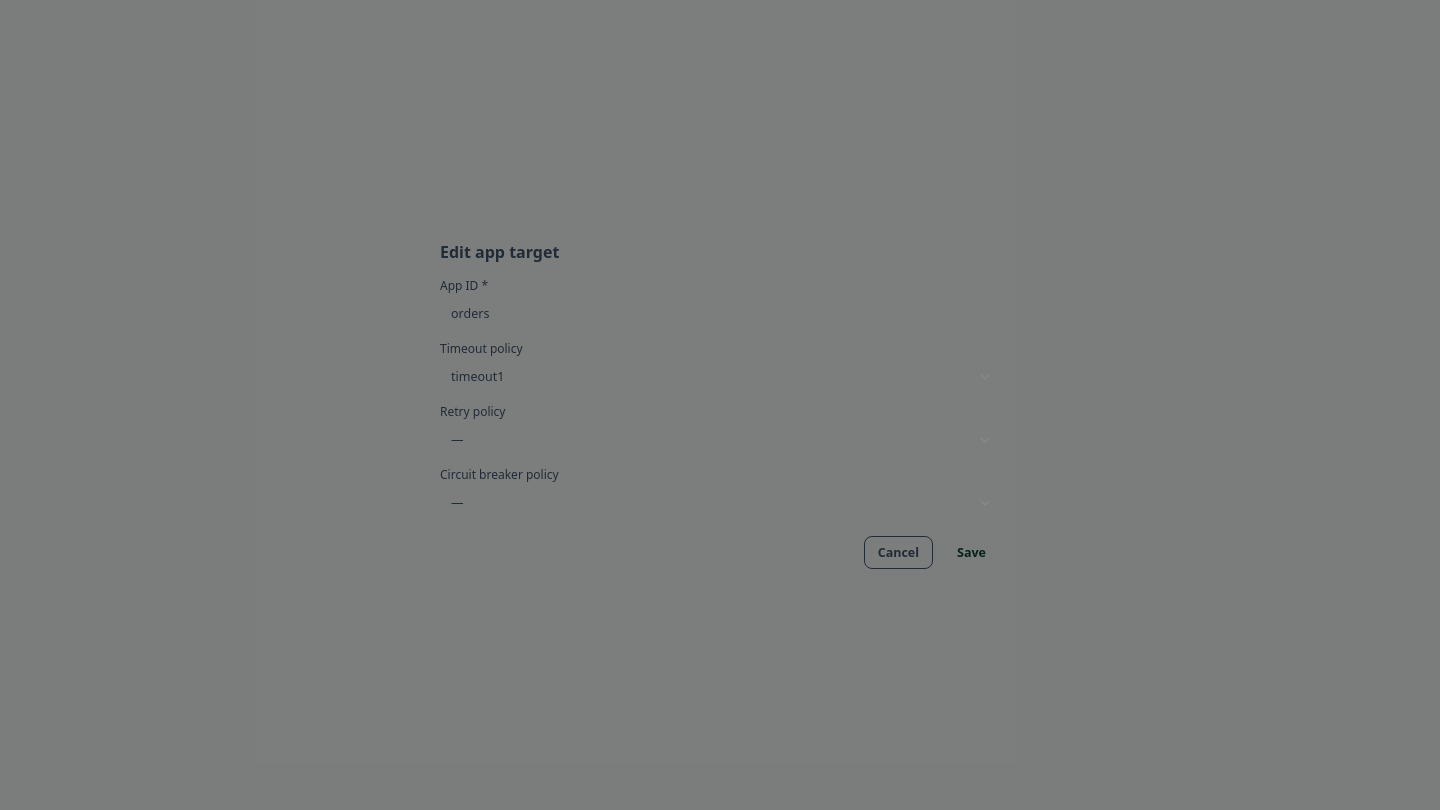
target dialogs duplicate name guard › AppTargetDialog allows keeping the same App ID while editing but blocks renaming onto another
The width and height of the screenshot is (1440, 810).
Expected: the button "Save" is enabled, [943, 536, 1000, 569]
Replace the text in the field named "app id" with "billing" at point(731, 314), box [440, 298, 1022, 329]
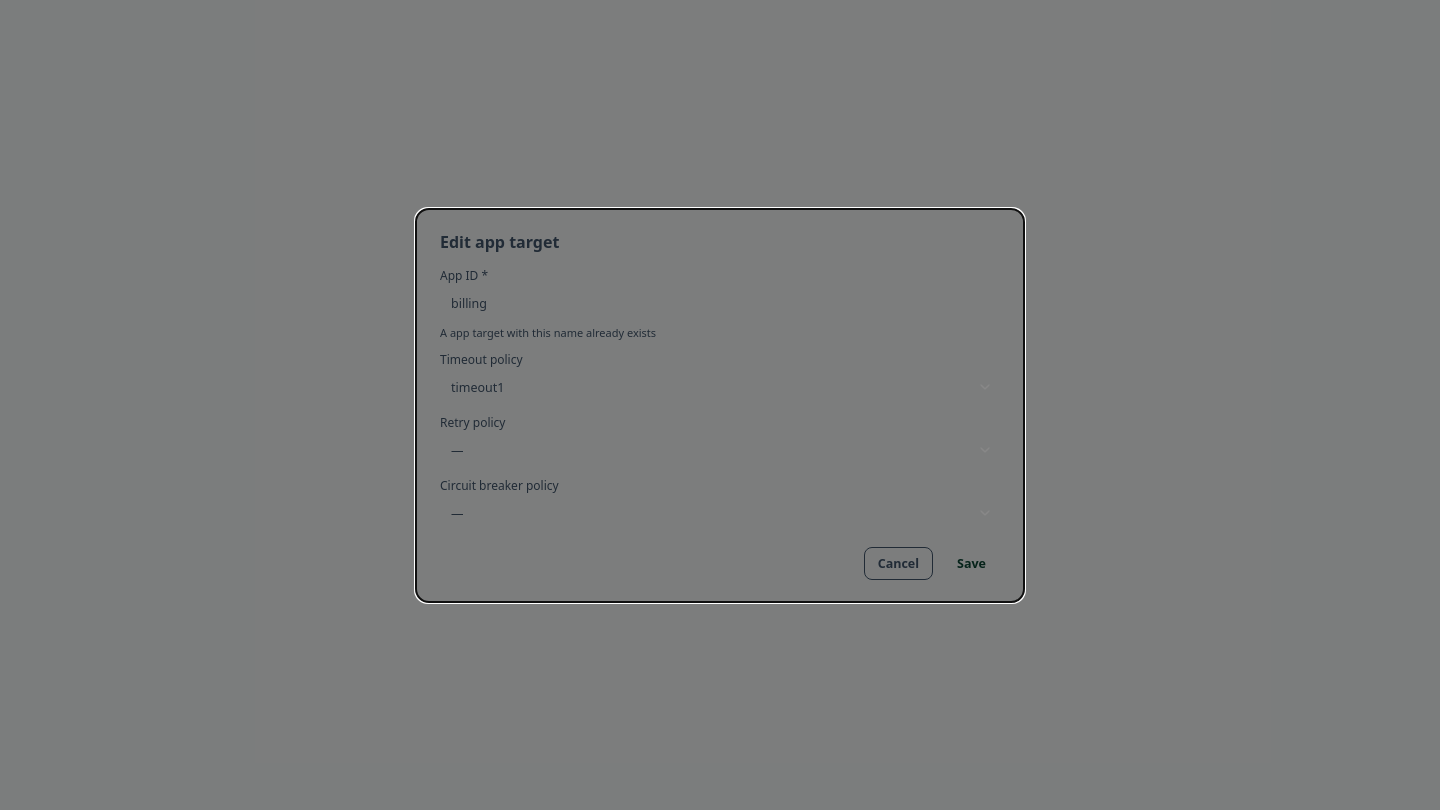
Expected: the text "A app target with this name already exists" is shown, [440, 324, 656, 340]
Expected: the button "Save" is disabled, [943, 546, 1000, 580]
